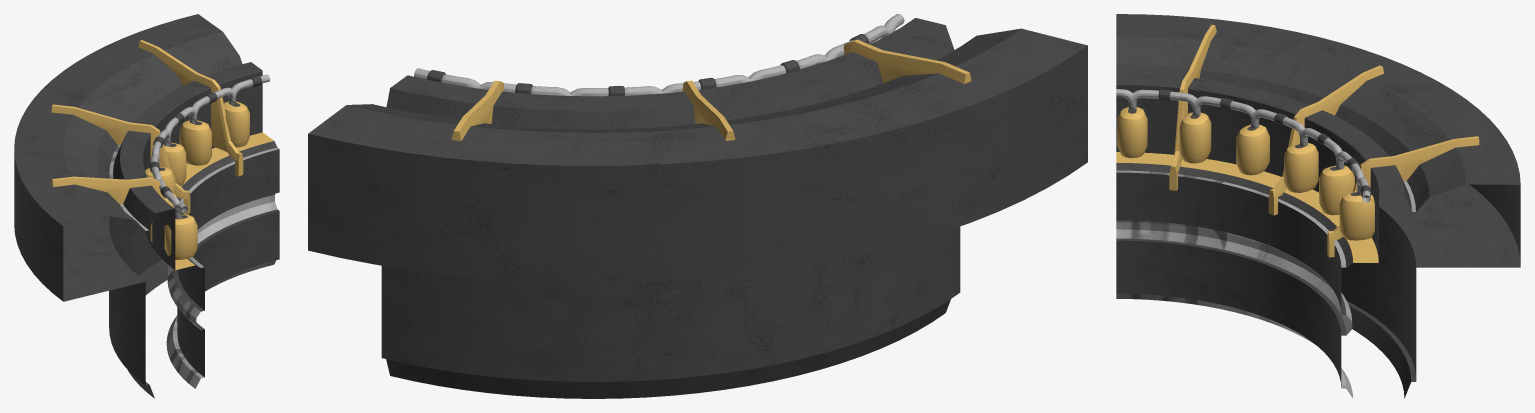
Rendered from NB_hole_entry.fbx.
3 views of the same model, side by side, from view 1: azimuth 30°, elevation 25°; view 2: azimuth 150°, elevation 25°; view 3: azimuth 270°, elevation 25° (orthographic). The views are drawn at different scales.
Parts seen in each view (by area): view 1: NB_hole_entry; view 2: NB_hole_entry; view 3: NB_hole_entry.
Boxes of the visible parts, x1,y1,x2,y2 form: NB_hole_entry: (14,14,279,398); NB_hole_entry: (308,14,1087,398); NB_hole_entry: (1116,14,1520,398).
Bounding box in the file's own units: 539 × 325 × 539.
